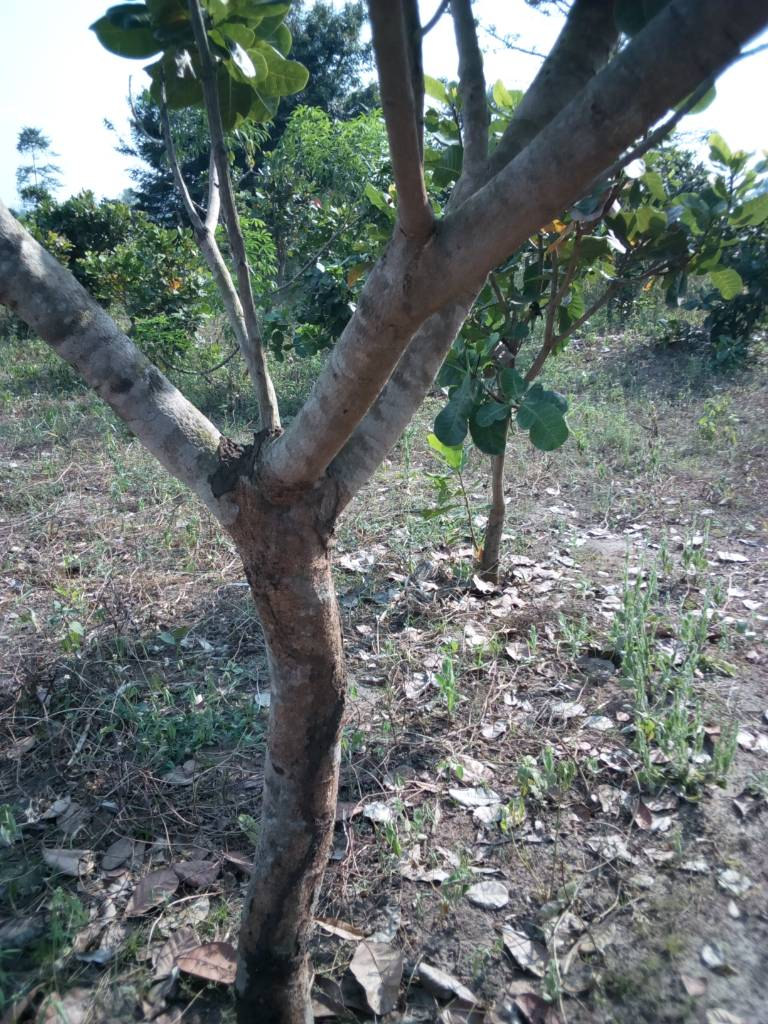Termites: (257, 588, 336, 999), (216, 430, 269, 494)
